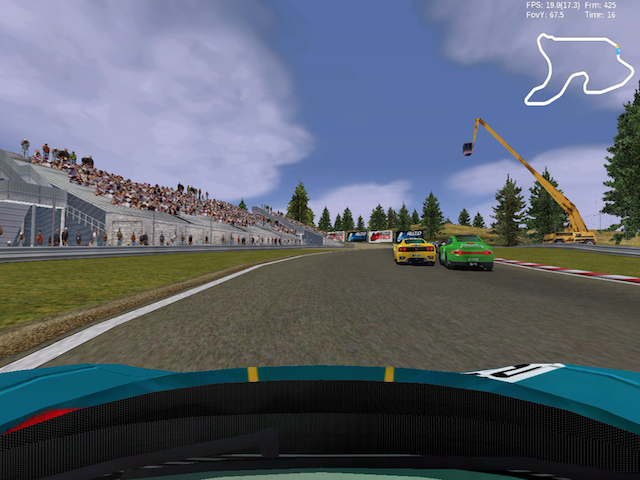Boxer96: (439, 234, 495, 272)
Cavallo360: (392, 237, 436, 266)
